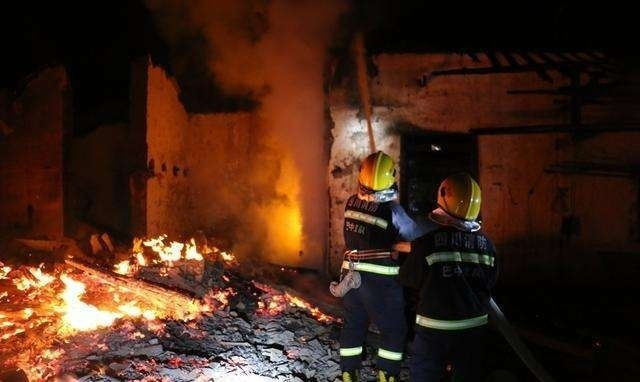fire: (4, 227, 231, 337)
